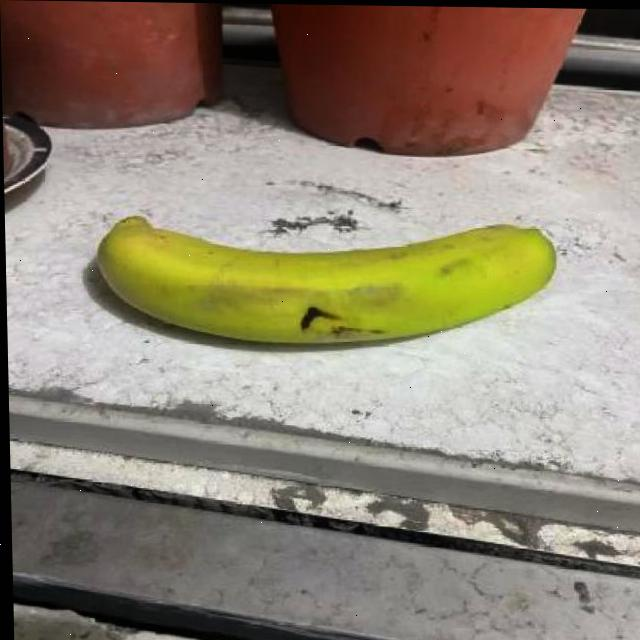banana: (74, 201, 573, 361)
